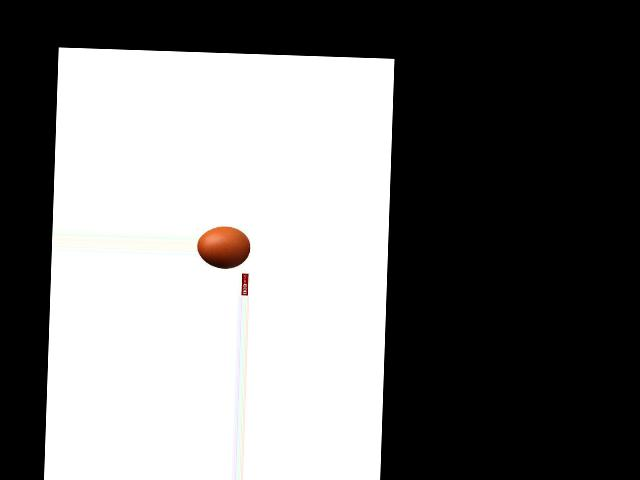egg: (197, 225, 250, 268)
